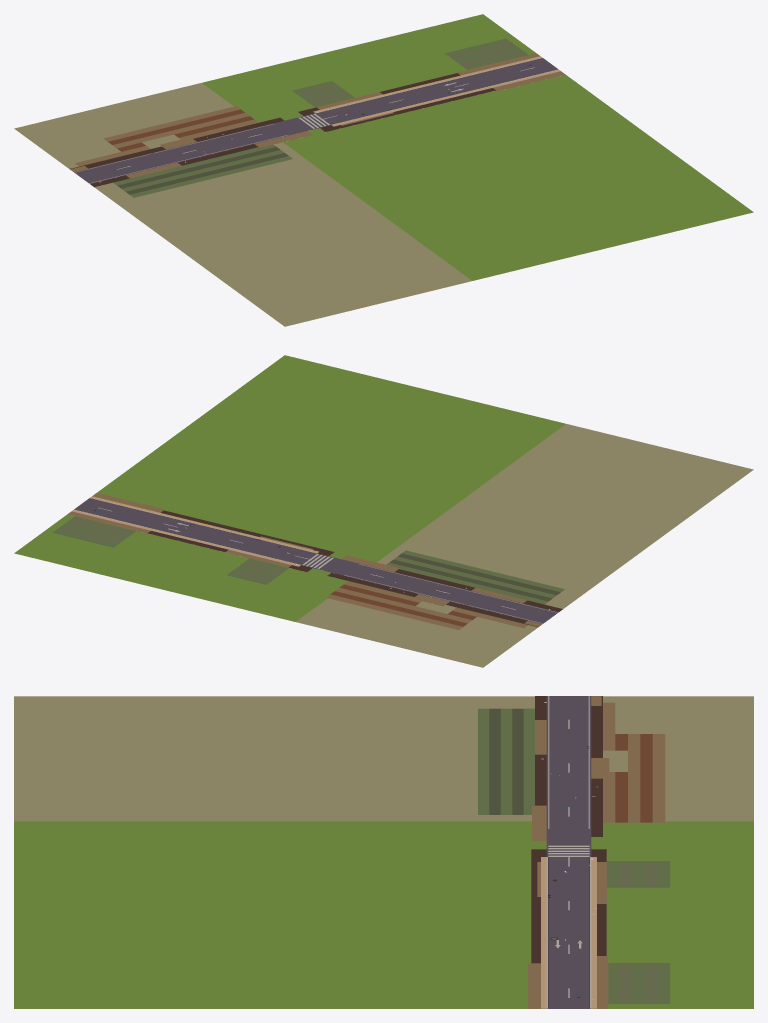
Rendered from cure-2-2.glb.
3 renders of one model, top to bottom at view 1: azimuth 30°, elevation 25°; view 2: azimuth 150°, elevation 25°; view 3: azimuth 270°, elevation 25°, orthographic. The views are drawn at different scales.
Visible parts, largest first — view 1: cure-2-2; view 2: cure-2-2; view 3: cure-2-2.
Part boxes in pixels (<box>): cure-2-2: <box>14,14,753,326</box>; cure-2-2: <box>14,355,753,667</box>; cure-2-2: <box>14,696,753,1008</box>.
Size of the model in its own units: 100 by 0.017 by 100.
